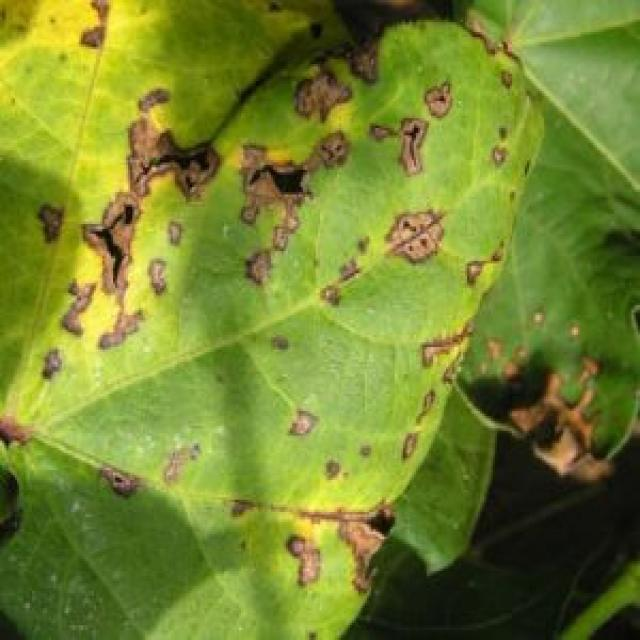Bacterial Blight: (47, 46, 454, 373)
